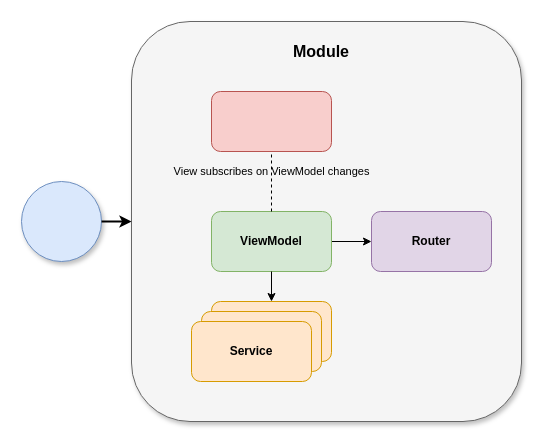
The diagram is 545 pixels wide and 446 high, and some of its shapes have lost their labels. Here are the shapes that lost their labels. From the top down, the centre of each, then its label:
the point at 271,121: View
the point at 62,222: Assembly
